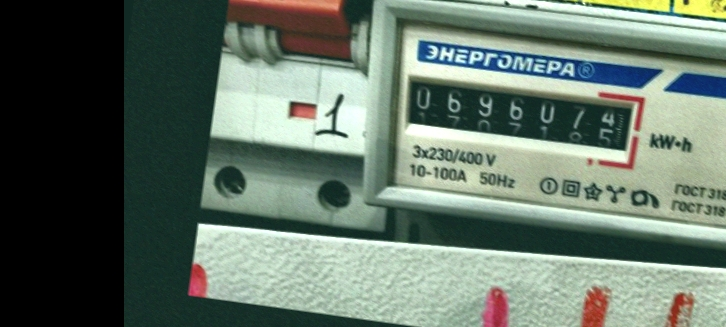0: (415, 82, 436, 110), (540, 97, 560, 125)
4: (602, 104, 619, 127)
5: (600, 126, 616, 147)
6: (509, 92, 529, 121), (446, 86, 467, 113)
7: (571, 102, 590, 130)
9: (478, 90, 498, 118)
screen: (397, 61, 651, 171)
